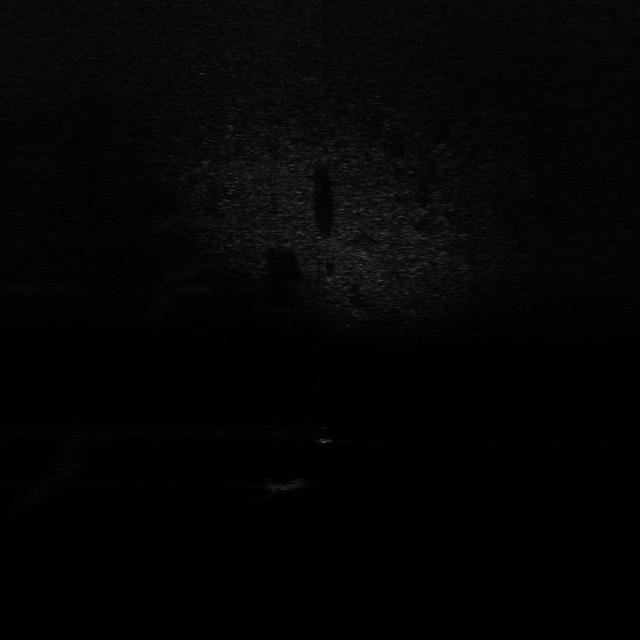ball: (312, 422, 342, 444)
square cage: (261, 472, 317, 492)
